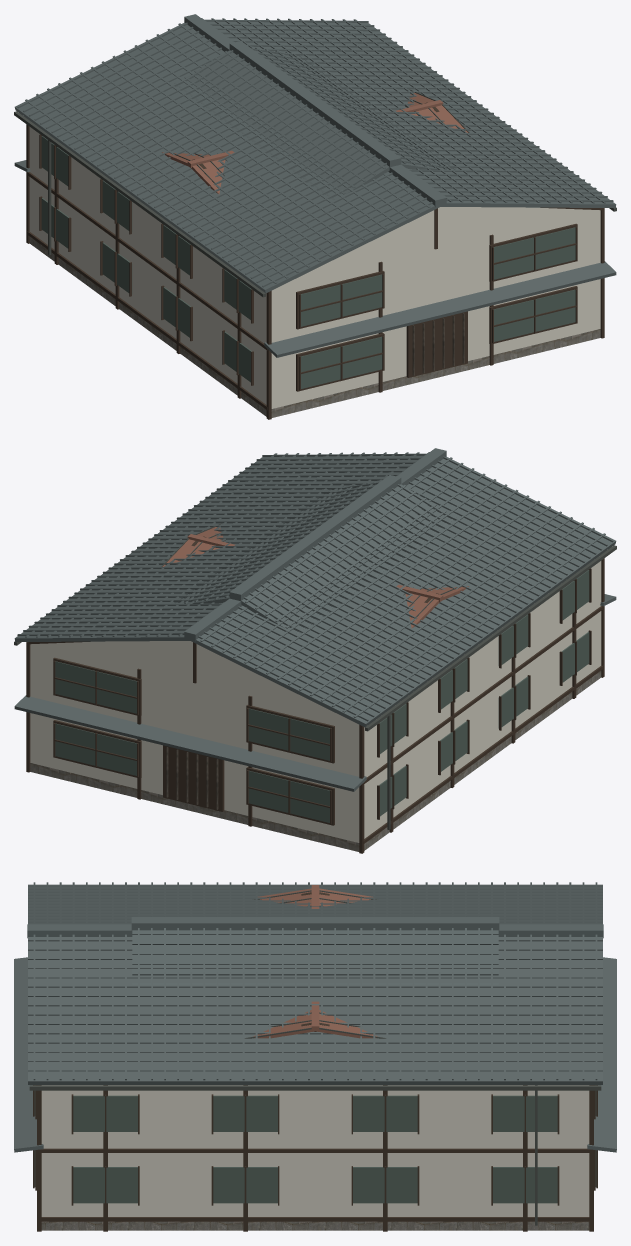
File: junction-rear.glb
3 renders of one model, top to bottom at view 1: azimuth 30°, elevation 25°; view 2: azimuth 150°, elevation 25°; view 3: azimuth 270°, elevation 25°, orthographic. The views are drawn at different scales.
Parts seen in each view (by area): view 1: 1054192970-Weathered grey roof tile.030, 1054192970-North warm lime gables.003, 1054192969-Weathered grey roof tile.030, 1054192970-Recessed muted glazing.025, 1054192970-Dark structural timber.030, 1054192970-Foundation granite.030, 1054192970-North dark gutter metal.003, 1465225098-North standing seam oxidized metal.003, 1054192970-Smoke-aged cedar.030; view 2: 1054192970-Weathered grey roof tile.030, 1054192970-North warm lime gables.003, 1054192969-Weathered grey roof tile.030, 1054192970-Recessed muted glazing.025, 1054192970-Dark structural timber.030, 1054192970-Foundation granite.030, 1054192970-North dark gutter metal.003, 1465225098-North standing seam oxidized metal.003, 1054192970-Smoke-aged cedar.030; view 3: 1054192970-Weathered grey roof tile.030, 1054192970-North warm lime gables.003, 1054192969-Weathered grey roof tile.030, 1054192970-Recessed muted glazing.025, 1054192970-Dark structural timber.030, 1054192970-Foundation granite.030, 1054192970-North dark gutter metal.003, 1465225098-North standing seam oxidized metal.003, 1465225098-North dark gutter metal.003.
Part boxes in pixels (x1,y1,x2,y2): 1054192970-Weathered grey roof tile.030: (14, 14, 616, 357); 1054192970-North warm lime gables.003: (29, 127, 600, 408); 1054192969-Weathered grey roof tile.030: (174, 41, 456, 200); 1054192970-Recessed muted glazing.025: (41, 136, 575, 388); 1054192970-Dark structural timber.030: (26, 124, 604, 419); 1054192970-Foundation granite.030: (29, 237, 600, 417); 1054192970-North dark gutter metal.003: (14, 111, 616, 297); 1465225098-North standing seam oxidized metal.003: (162, 93, 468, 194); 1054192970-Smoke-aged cedar.030: (412, 313, 464, 375); 1054192970-Weathered grey roof tile.030: (14, 448, 616, 791); 1054192970-North warm lime gables.003: (30, 561, 601, 842); 1054192969-Weathered grey roof tile.030: (174, 475, 456, 634); 1054192970-Recessed muted glazing.025: (55, 570, 589, 822); 1054192970-Dark structural timber.030: (26, 558, 604, 853); 1054192970-Foundation granite.030: (30, 671, 601, 851); 1054192970-North dark gutter metal.003: (14, 545, 616, 829); 1465225098-North standing seam oxidized metal.003: (162, 527, 468, 628); 1054192970-Smoke-aged cedar.030: (166, 747, 218, 809); 1054192970-Weathered grey roof tile.030: (14, 882, 616, 1152); 1054192970-North warm lime gables.003: (41, 1085, 589, 1216); 1054192969-Weathered grey roof tile.030: (131, 916, 499, 984); 1054192970-Recessed muted glazing.025: (34, 1091, 596, 1203); 1054192970-Dark structural timber.030: (33, 1085, 597, 1231); 1054192970-Foundation granite.030: (41, 1221, 589, 1230); 1054192970-North dark gutter metal.003: (29, 1085, 601, 1225); 1465225098-North standing seam oxidized metal.003: (253, 885, 377, 1038); 1465225098-North dark gutter metal.003: (244, 890, 386, 1038).
Size of the model in its own units: 14.28 by 7.3 by 18.36.
Materials: 8 (2 with a texture image).
